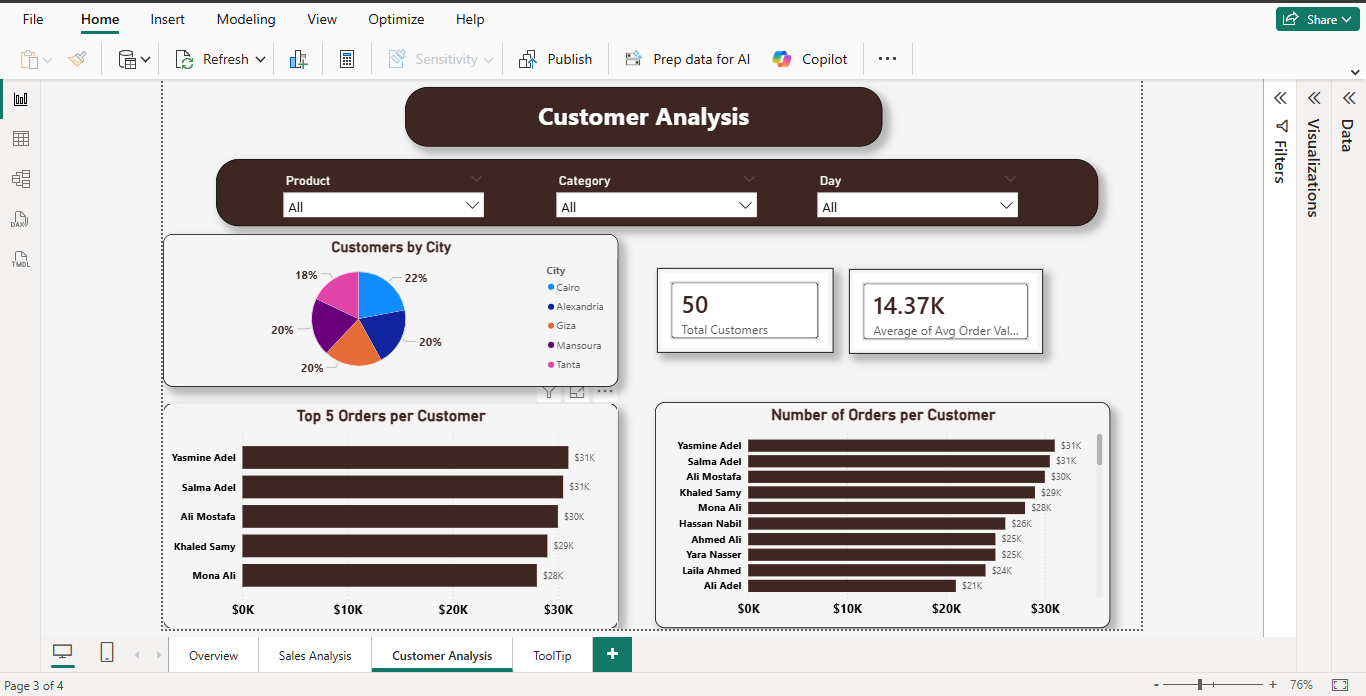

The dashboard page shown, as its layout file describes it:
{"tool":"powerbi","page":{"name":"Customer Analysis","canvas":[1280,720],"ordinal":2},"visuals":[{"type":"textbox","box":[316.8,10.1,625,77.8],"z":0},{"type":"textbox","box":[69.1,105.1,1154.9,87.8],"z":1000},{"type":"slicer","fields":{"Values":["Table1.OrderDate.Variation.Date Hierarchy.Day"]},"box":[846.7,118.1,282.2,63.4],"z":2000},{"type":"slicer","fields":{"Values":["Table1.Category"]},"box":[505.4,118.1,282.2,63.4],"z":3000},{"type":"slicer","fields":{"Values":["Table1.Product"]},"box":[148.3,118.1,282.2,63.4],"z":4000},{"type":"barChart","title":"Top 5 Orders per Customer","fields":{"Category":["Table1.CustomerName"],"Y":["Sum(Table1.Total Revenue)"]},"box":[0,424.4,595.5,296],"z":5000},{"type":"pieChart","title":"Customers by City","fields":{"Category":["Table1.City"],"Y":["CountNonNull(Table1.OrderID)"]},"box":[0,203,596.2,200.2],"z":6000},{"type":"cardVisual","fields":{"Data":["Table1.Total Customers"]},"box":[647.1,246.8,231,111.1],"z":7000},{"type":"cardVisual","fields":{"Data":["Avg(Table1.Avg Order Value)"]},"box":[897.4,248.6,253.9,111.1],"z":8000},{"type":"barChart","title":"Number of Orders per Customer","fields":{"Category":["Table1.CustomerName"],"Y":["Sum(Table1.Total Revenue)"]},"box":[643.5,423.1,595.9,296.2],"z":9000}]}

Visuals, with their boxes on the page's 1280x720 design canvas (x1, y1, x2, y2). These are canvas units, not pixel positions in the 1366x696 screenshot, which may show the page scaled, cropped or inside an application window:
textbox: 317:10:942:88
textbox: 69:105:1224:193
slicer - Table1.OrderDate.Variation.Date Hierarchy.Day: 847:118:1129:182
slicer - Table1.Category: 505:118:788:182
slicer - Table1.Product: 148:118:430:182
"Top 5 Orders per Customer" barChart: 0:424:596:720
"Customers by City" pieChart: 0:203:596:403
cardVisual - Table1.Total Customers: 647:247:878:358
cardVisual - Avg(Table1.Avg Order Value): 897:249:1151:360
"Number of Orders per Customer" barChart: 644:423:1239:719
